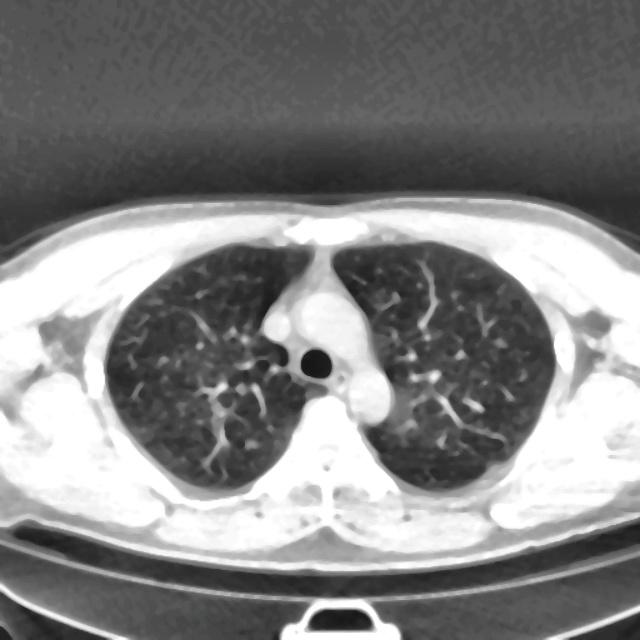covid: (0, 192, 639, 576)
